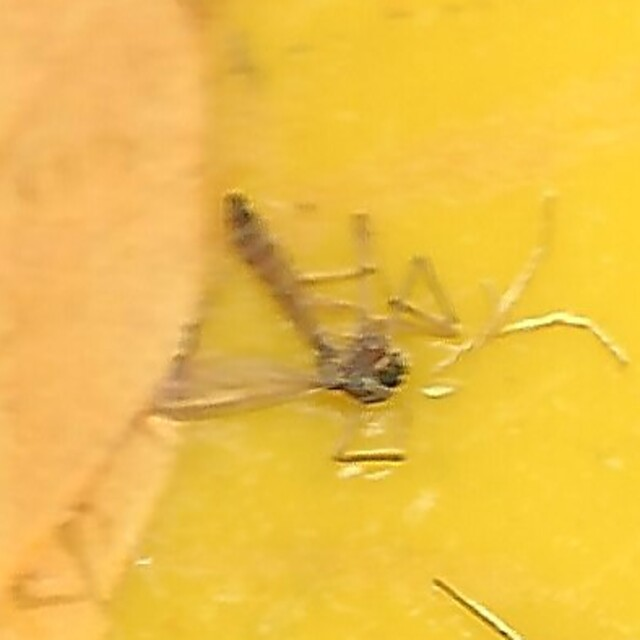Nematocera: (162, 186, 478, 454)
